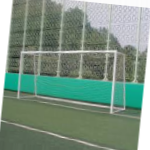goals: (17, 46, 127, 115)
